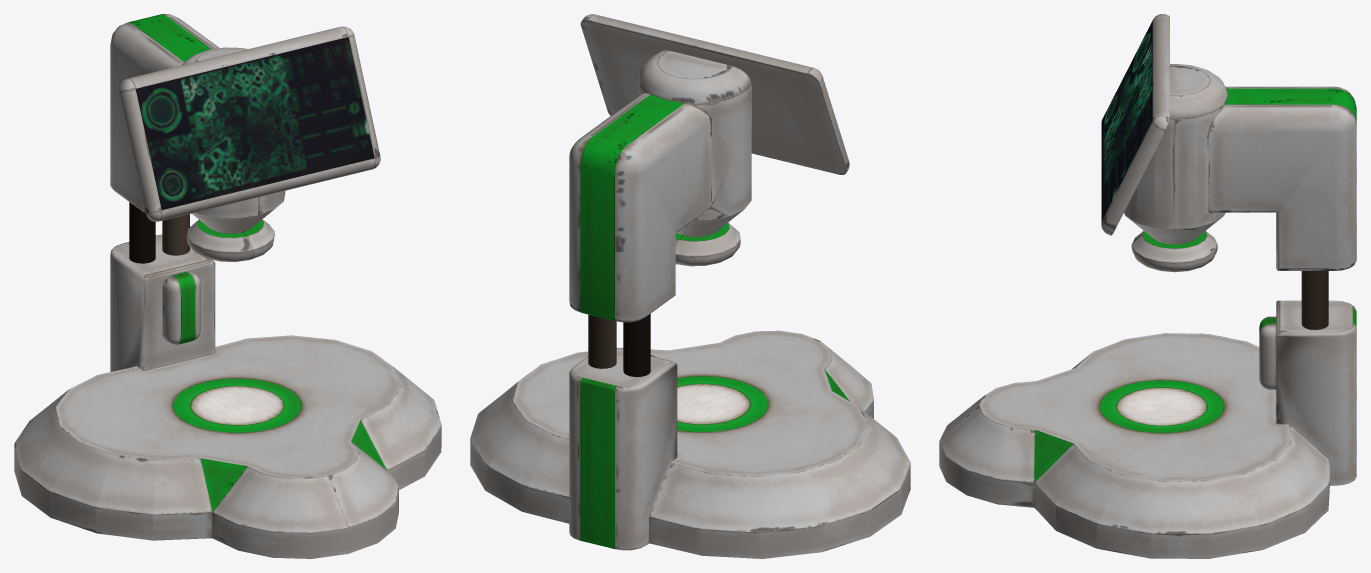
The picture shows the model from 3 angles, left to right: view 1: azimuth 30°, elevation 25°; view 2: azimuth 150°, elevation 25°; view 3: azimuth 270°, elevation 25°; orthographic projection. The views are drawn at different scales.
Parts seen in each view (by area): view 1: Object_3; view 2: Object_3; view 3: Object_3.
Part boxes in pixels (box(x1,y1,x2,y2)): Object_3: box(14, 14, 441, 558); Object_3: box(470, 14, 910, 558); Object_3: box(939, 14, 1356, 558).
Size of the model in its own units: 20.16 by 20.9 by 19.62.
2 materials, 1 textured.
